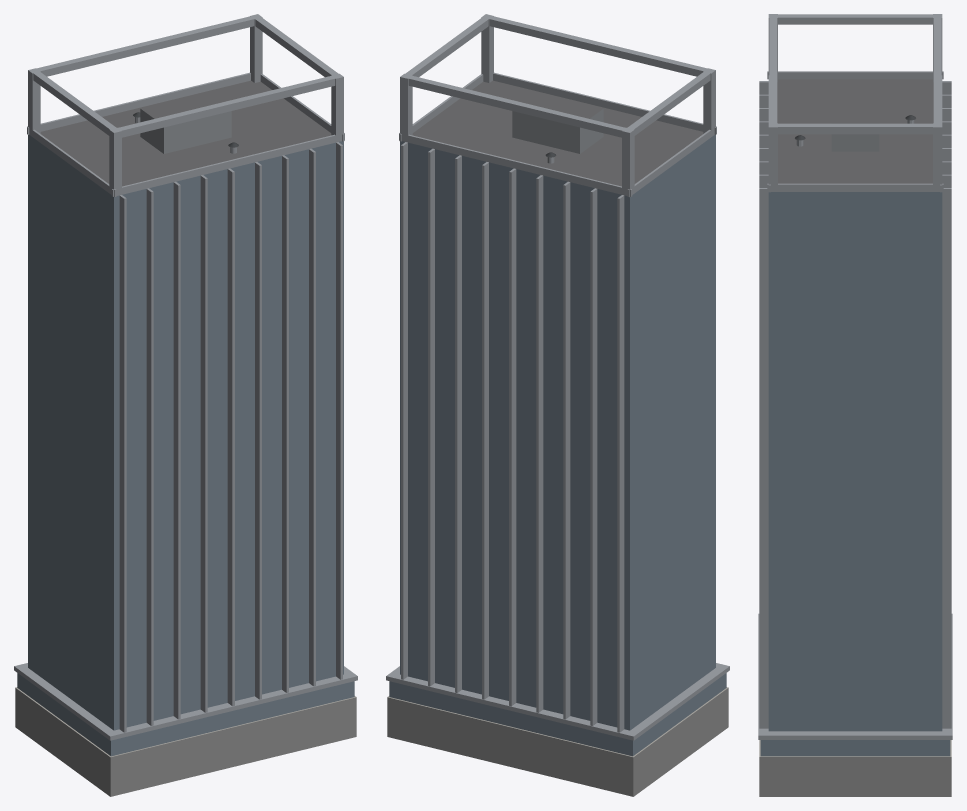
Rendered from building_02.glb.
The picture shows the model from 3 angles, left to right: view 1: azimuth 30°, elevation 25°; view 2: azimuth 150°, elevation 25°; view 3: azimuth 270°, elevation 25°; orthographic projection.
Visible parts, largest first — view 1: Render; view 2: Render; view 3: Render.
Part boxes in pixels (x1=…): Render: x1=14, y1=14, x2=357, y2=796; Render: x1=386, y1=14, x2=729, y2=796; Render: x1=758, y1=14, x2=952, y2=796.
Size of the model in its own units: 36.6 by 93 by 24.6.
